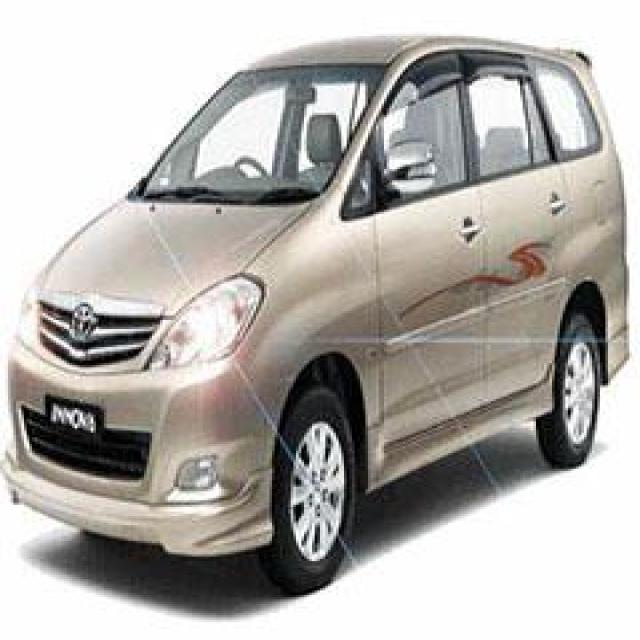car: (0, 27, 627, 577)
